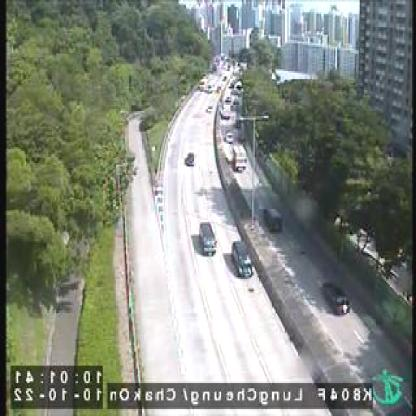Car: (320, 281, 350, 315), (231, 238, 253, 278), (199, 221, 216, 254), (263, 204, 282, 232), (185, 152, 196, 166), (226, 131, 235, 143)
Truck: (231, 144, 246, 172)
